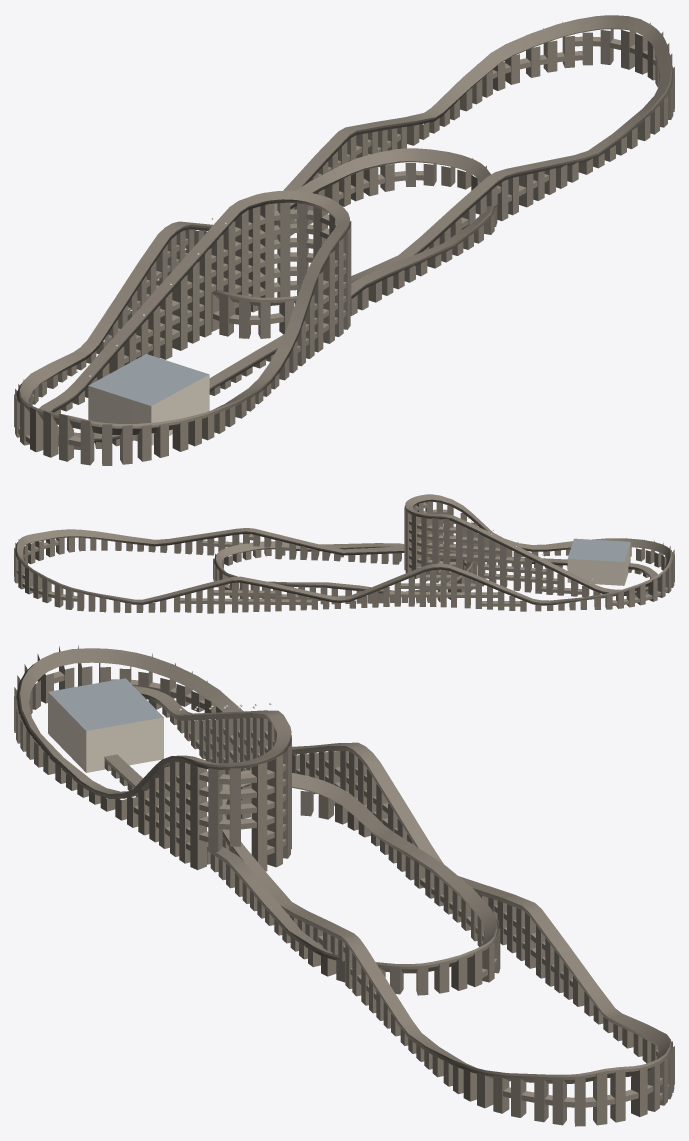
File: carowinds-hurler.glb
3 renders of one model, top to bottom at view 1: azimuth 30°, elevation 25°; view 2: azimuth 150°, elevation 25°; view 3: azimuth 270°, elevation 25°, orthographic. The views are drawn at different scales.
Parts seen in each view (by area): view 1: Hurler; view 2: Hurler; view 3: Hurler.
Boxes of the visible parts, x1,y1,x2,y2 form: Hurler: [14, 15, 674, 465]; Hurler: [14, 494, 674, 613]; Hurler: [14, 645, 674, 1126].
Bounding box in the file's own units: 213 × 30.72 × 135.
